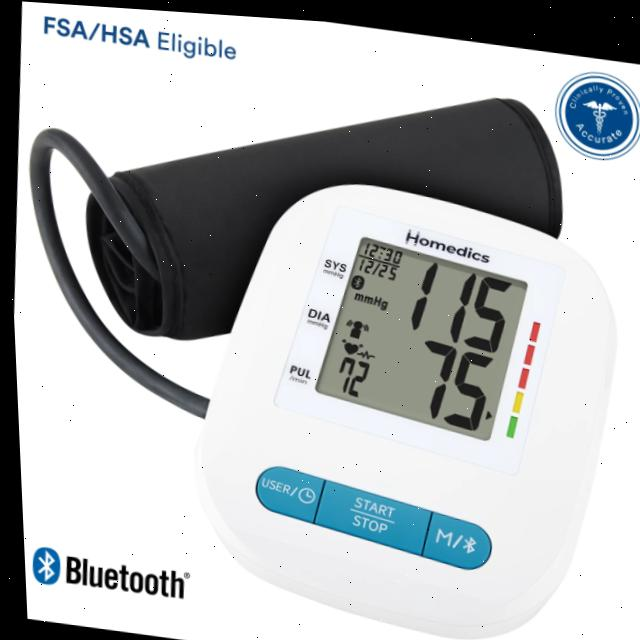dia: (387, 321, 501, 436)
pul: (308, 335, 382, 407)
ssd: (307, 228, 527, 436)
sys: (390, 243, 522, 352)
